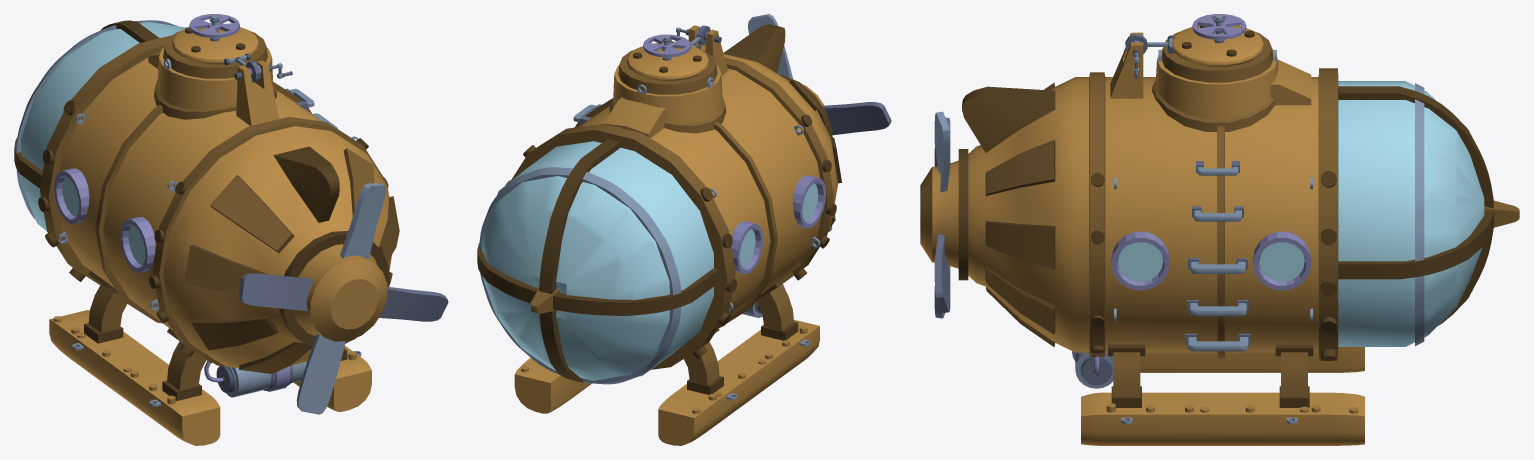
The model's file is details3,1.fbx.
3 renders of one model, left to right at view 1: azimuth 30°, elevation 25°; view 2: azimuth 150°, elevation 25°; view 3: azimuth 270°, elevation 25°, orthographic. The views are drawn at different scales.
Parts seen in each view (by area): view 1: Cylinder, Cube.013, Cylinder.008, Cylinder.005, Cube, Cube.004, Cube.003, Cube.005, Cube.051, Cylinder.059, Cube.002, Cube.012 (+11 smaller); view 2: Cube, Cylinder, Cube.013, Cylinder.008, Cylinder.060, Cylinder.006, Cylinder.007, Cube.012, Cube.003, Cube.006, Cylinder.003, Cylinder.001 (+7 smaller); view 3: Cylinder, Cube, Cube.012, Cylinder.008, Cube.013, Cylinder.007, Cylinder.005, Cylinder.006, Cylinder.002, Cylinder.004, Cylinder.060, Cube.006 (+12 smaller).
Boxes of the visible parts, x1,y1,x2,y2 form: Cylinder: (40,35,399,374); Cube.013: (49,310,220,445); Cylinder.008: (154,23,276,119); Cylinder.005: (293,244,387,341); Cube: (21,22,185,230); Cube.004: (296,334,345,414); Cube.003: (238,273,313,311); Cube.005: (340,183,385,259); Cube.051: (236,60,279,125); Cylinder.059: (279,231,389,345); Cube.002: (379,286,448,321); Cube.012: (294,346,371,411); Cube: (482,141,713,380); Cylinder: (511,24,841,369); Cube.013: (658,319,819,445); Cylinder.008: (609,43,725,133); Cylinder.060: (479,167,680,384); Cylinder.006: (477,243,719,315); Cylinder.007: (539,139,620,382); Cube.012: (514,358,591,413); Cube.003: (822,102,891,135); Cube.006: (604,97,666,137); Cylinder.003: (792,175,825,228); Cylinder.001: (731,221,763,274); Cylinder: (962,68,1338,361); Cube: (1338,81,1484,346); Cube.012: (1081,392,1364,445); Cylinder.008: (1152,25,1278,131); Cube.013: (1140,347,1364,372); Cylinder.007: (1338,86,1493,325); Cylinder.005: (920,160,958,268); Cylinder.006: (1338,210,1494,279); Cylinder.002: (1252,231,1311,290); Cylinder.004: (1111,231,1169,290); Cylinder.060: (1415,83,1424,346); Cube.006: (1270,60,1311,105).
Bounding box in the file's own units: 308 × 434 × 606.
